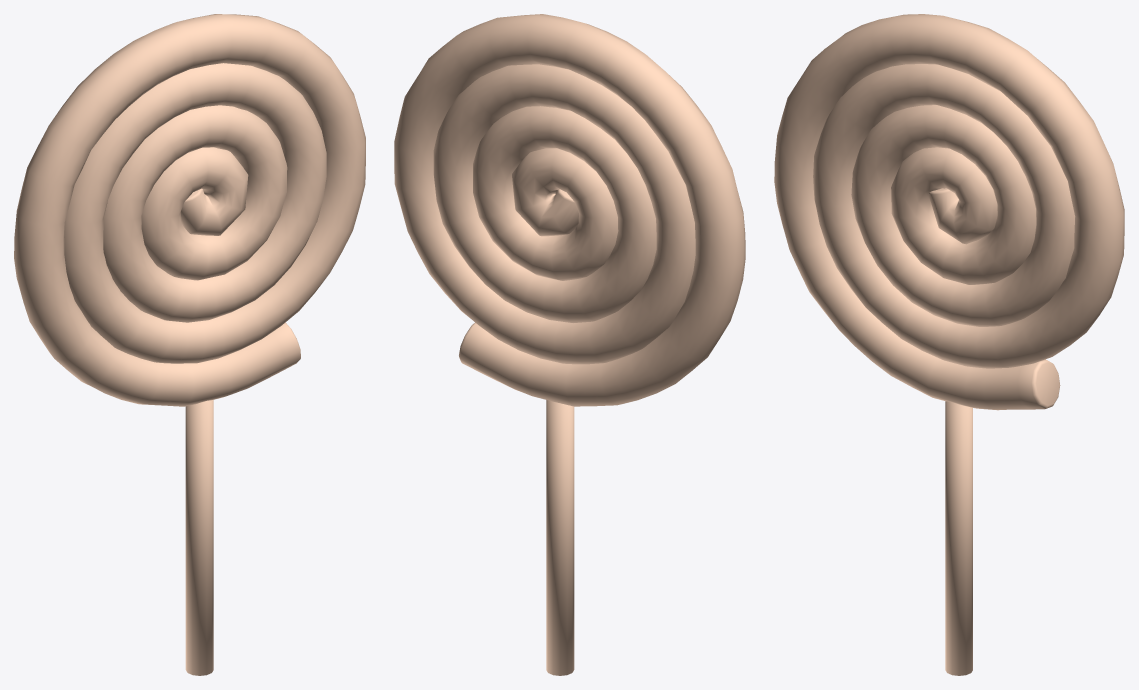
The model's file is Lollipop.fbx.
The picture shows the model from 3 angles, left to right: view 1: azimuth 30°, elevation 25°; view 2: azimuth 150°, elevation 25°; view 3: azimuth 330°, elevation 25°; orthographic projection.
Parts seen in each view (by area): view 1: Lollipop; view 2: Lollipop; view 3: Lollipop.
Part boxes in pixels (<box>): Lollipop: <box>14,14,365,675</box>; Lollipop: <box>394,14,745,675</box>; Lollipop: <box>774,14,1124,675</box>.
Size of the model in its own units: 2.79 by 5.02 by 0.3533.
